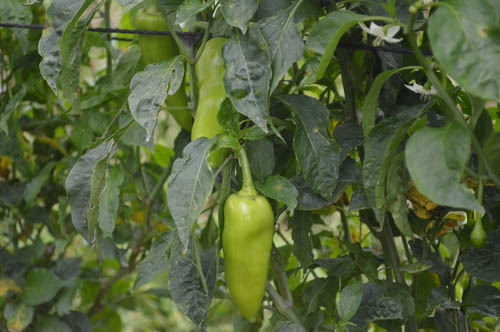ChiliPepper: (218, 194, 273, 323), (134, 14, 193, 129), (191, 37, 239, 168)
